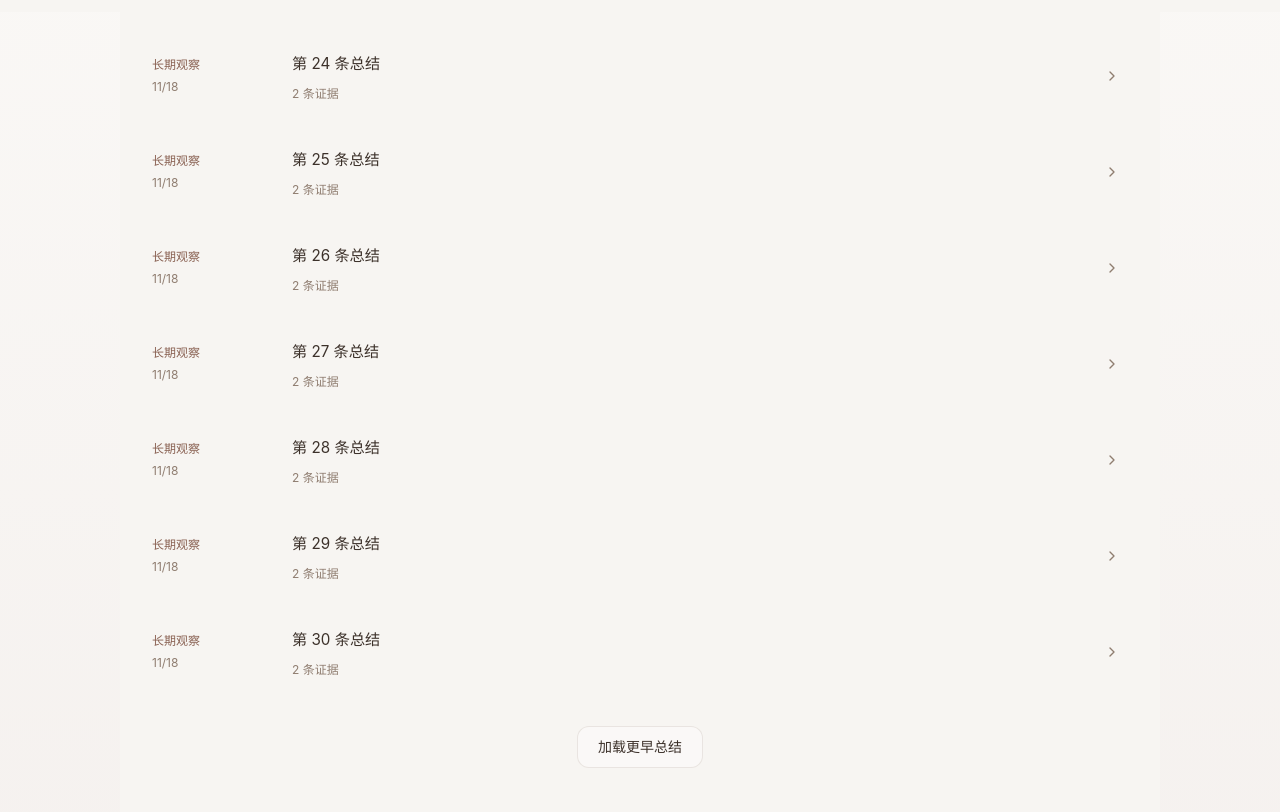
Test: MemoryStoryPage › loads earlier summaries from the next offset
(page scrolled)
Click the button "加载更早总结".
click(640, 747)  # box [577,726,703,768]
(page scrolled)
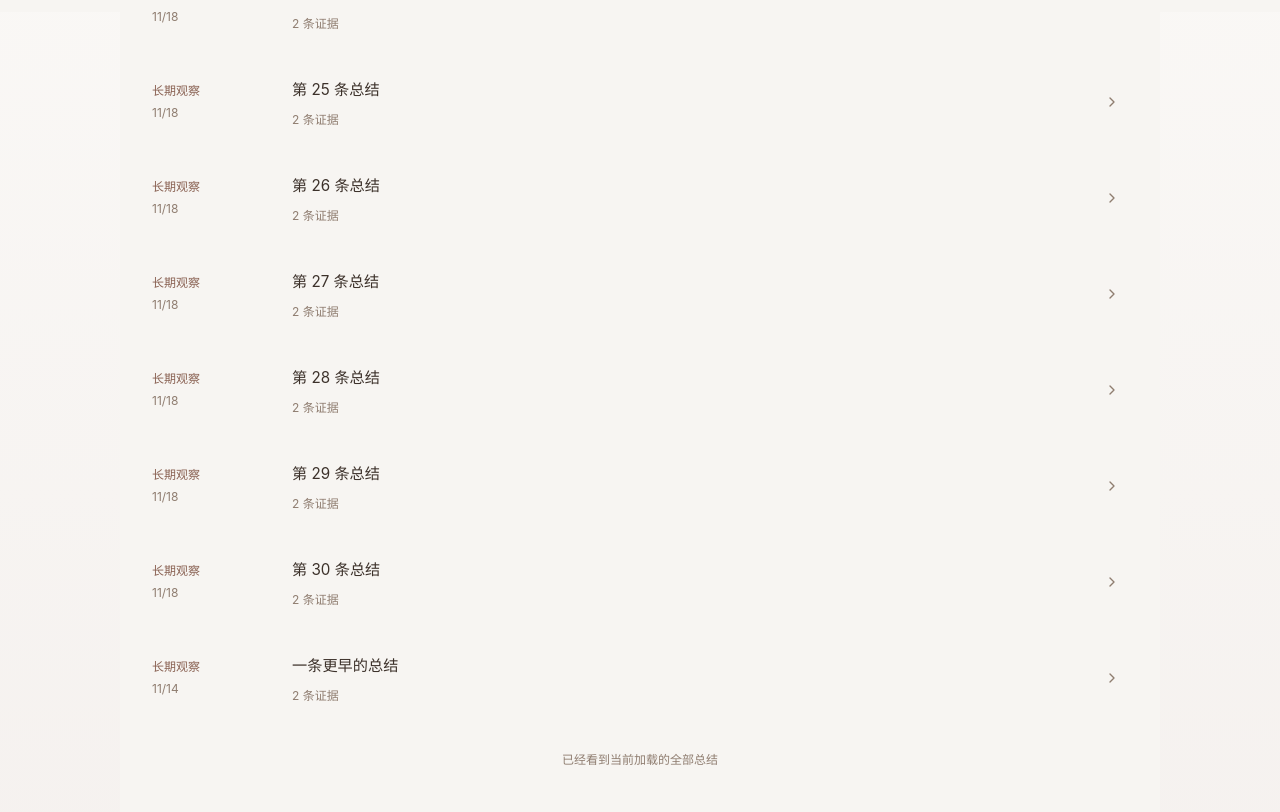
Check: the text "一条更早的总结" is shown, box [292,656,398,675]
Check: the text "已经看到当前加载的全部总结" is shown, box [562,752,718,768]
